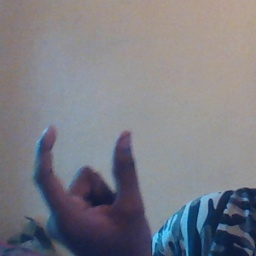U: (26, 118, 153, 255)
